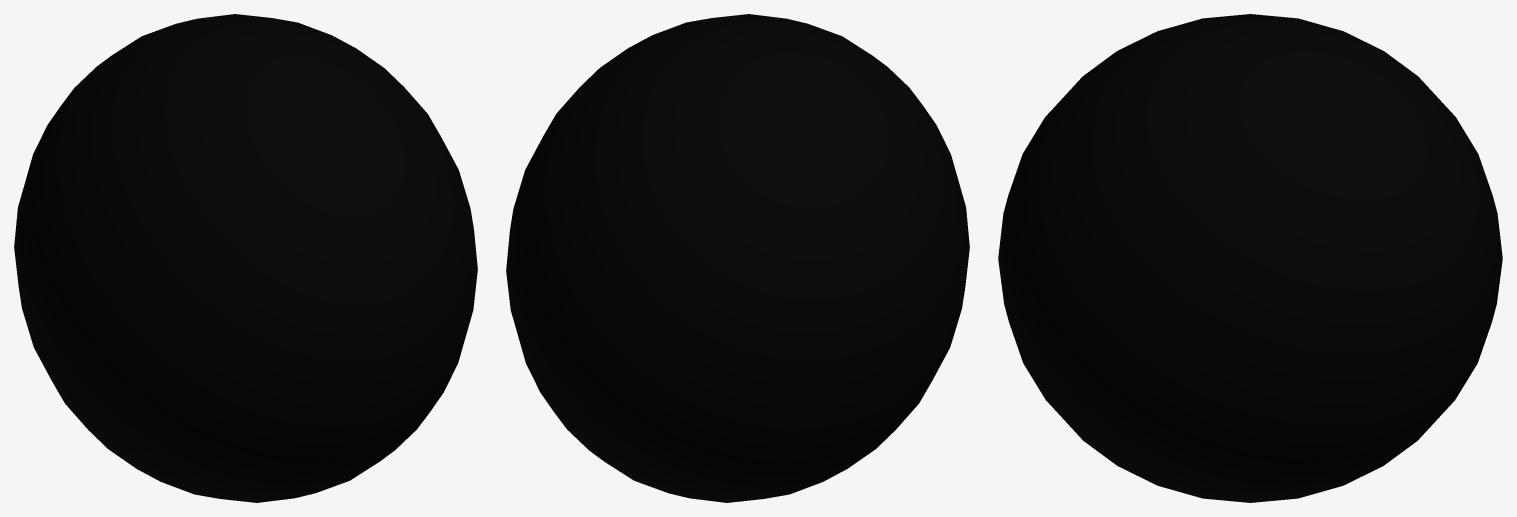
Rendered from JellySphere.fbx.
The picture shows the model from 3 angles, left to right: view 1: azimuth 30°, elevation 25°; view 2: azimuth 150°, elevation 25°; view 3: azimuth 270°, elevation 25°; orthographic projection.
Parts seen in each view (by area): view 1: graphic; view 2: graphic; view 3: graphic.
Part boxes in pixels (box(x1,y1,x2,y2)): graphic: box(14, 14, 477, 502); graphic: box(506, 14, 969, 502); graphic: box(998, 14, 1502, 502).
Bounding box in the file's own units: 1.5 × 1.63 × 1.66.
1 material, 1 textured.
